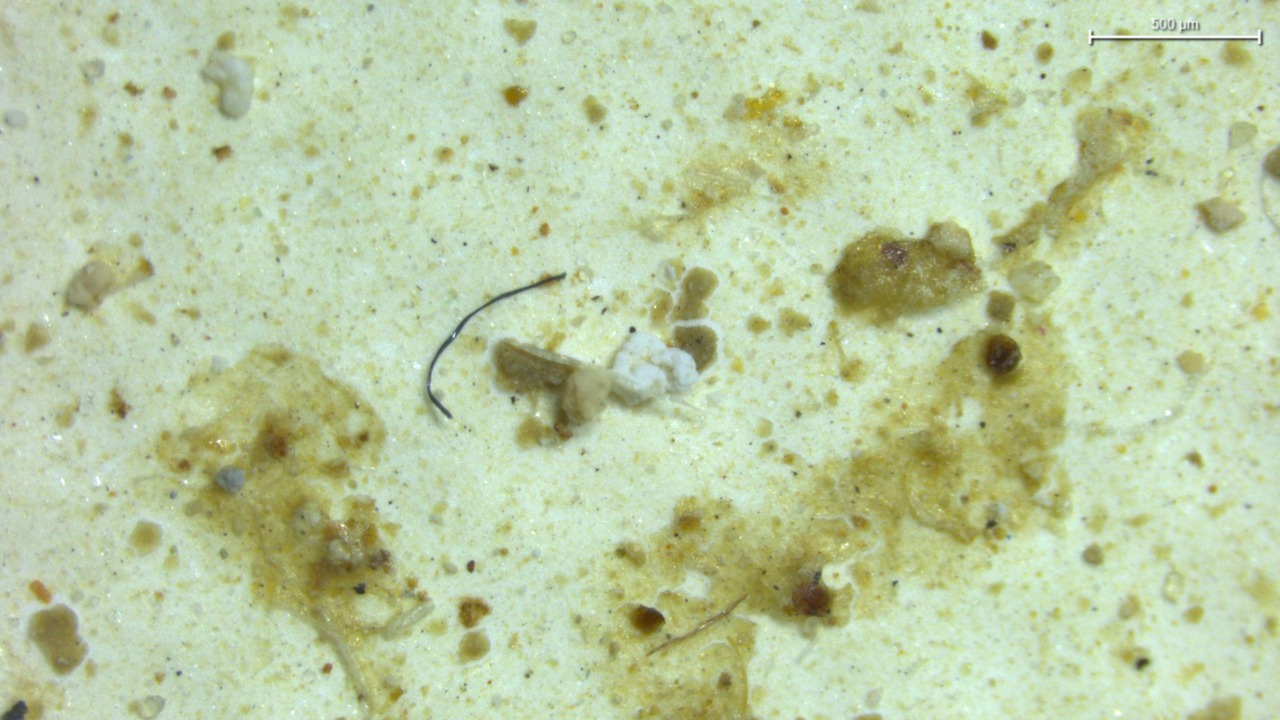microplastic_fragment: (611, 331, 699, 404), (202, 47, 253, 119), (561, 365, 613, 424), (1197, 197, 1246, 233), (215, 466, 245, 493)
